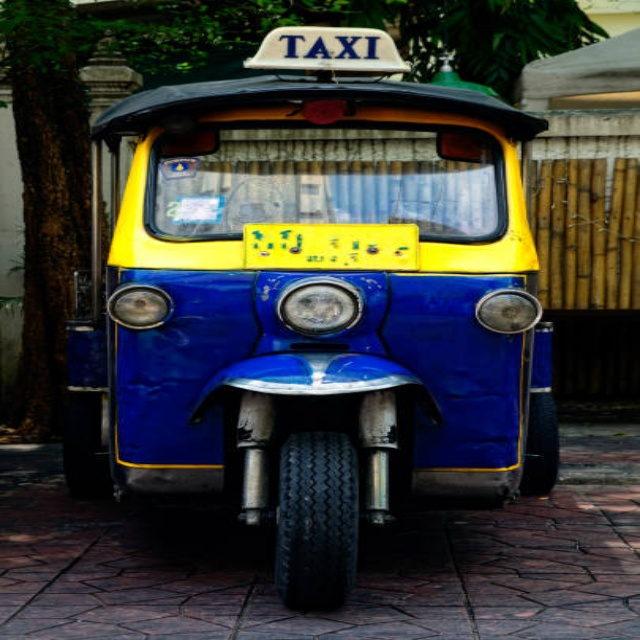Motorcycle: (66, 77, 563, 614)
